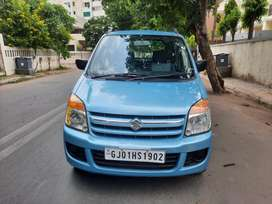GJ01HS1902: (104, 148, 164, 163)
